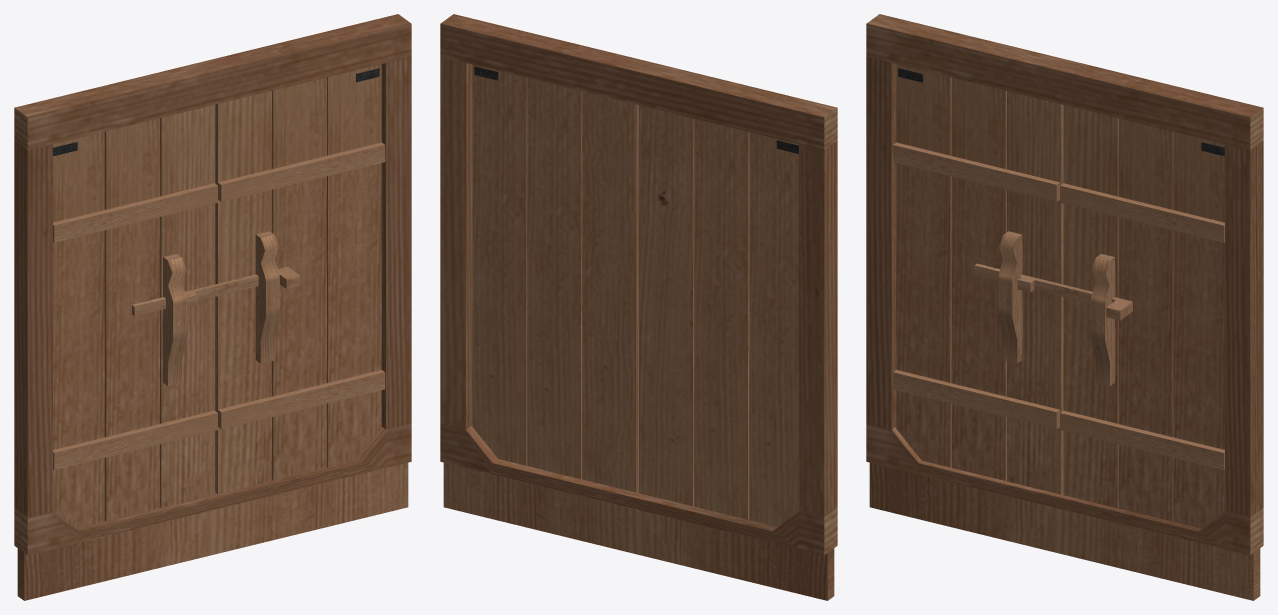
Rendered from SM_Gyedong_Door_05C.fbx.
The picture shows the model from 3 angles, left to right: view 1: azimuth 30°, elevation 25°; view 2: azimuth 150°, elevation 25°; view 3: azimuth 330°, elevation 25°; orthographic projection.
Visible parts, largest first — view 1: SM_Gyedong_Door_05C; view 2: SM_Gyedong_Door_05C; view 3: SM_Gyedong_Door_05C.
Boxes of the visible parts, x1=… form: SM_Gyedong_Door_05C: x1=14, y1=14, x2=411, y2=600; SM_Gyedong_Door_05C: x1=440, y1=14, x2=837, y2=600; SM_Gyedong_Door_05C: x1=866, y1=14, x2=1263, y2=600.
Bounding box in the file's own units: 197 × 239 × 20.31.
